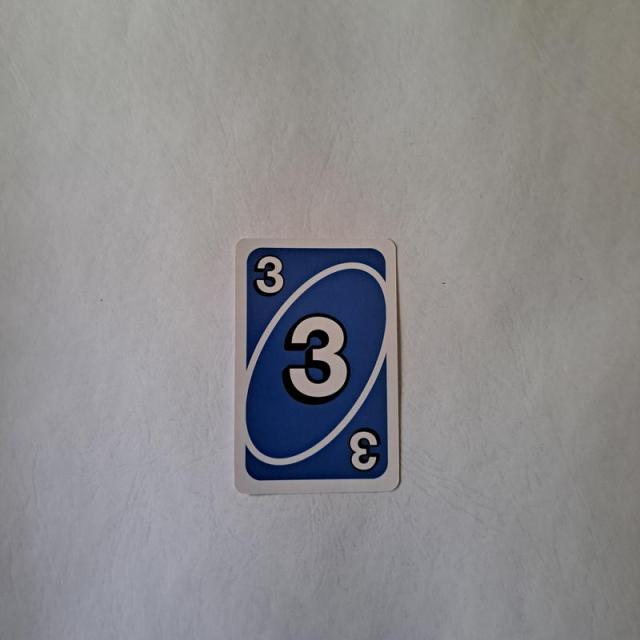Blue_Card: (243, 240, 394, 486)
Number_3: (251, 251, 286, 297)
